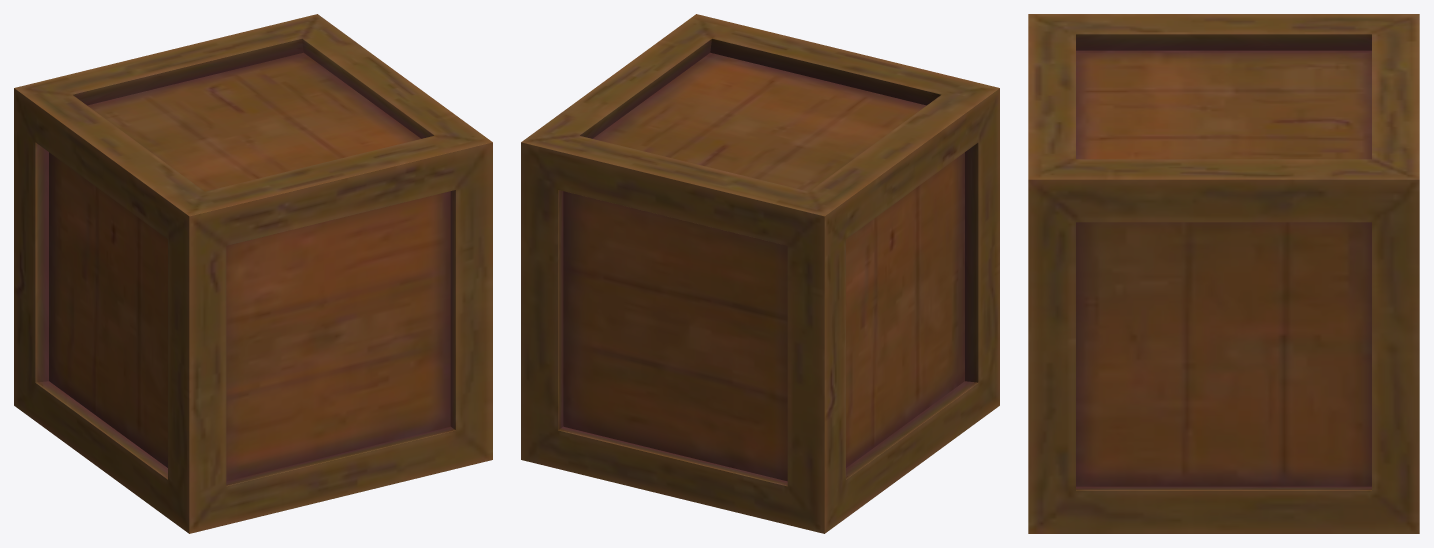
The model's file is crate-wood.glb.
The picture shows the model from 3 angles, left to right: view 1: azimuth 30°, elevation 25°; view 2: azimuth 150°, elevation 25°; view 3: azimuth 270°, elevation 25°; orthographic projection. The views are drawn at different scales.
Parts seen in each view (by area): view 1: Crate_2; view 2: Crate_2; view 3: Crate_2.
Boxes of the visible parts, <box> form: Crate_2: <box>14,14,492,533</box>; Crate_2: <box>521,14,999,533</box>; Crate_2: <box>1028,14,1419,533</box>.
Size of the model in its own units: 0.8 by 0.8 by 0.8.
Materials: 1 (1 with a texture image).
